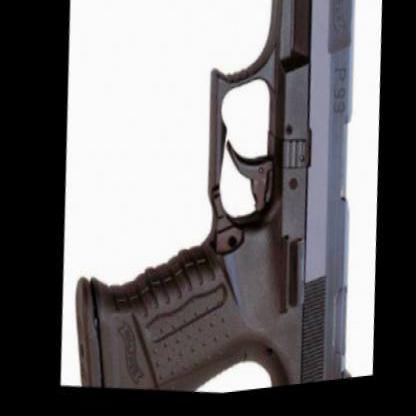pistol: (47, 0, 389, 409)
